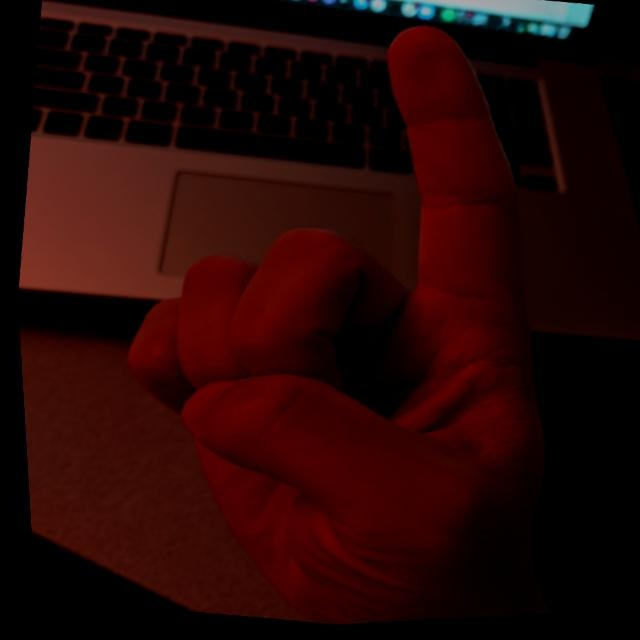D: (62, 0, 621, 636)
